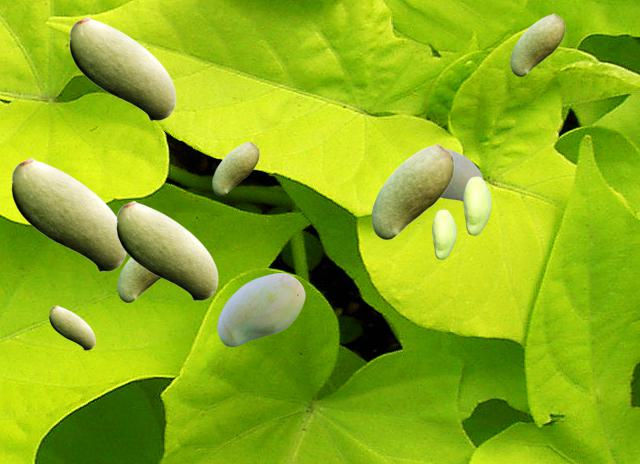green_mango: (11, 157, 126, 271), (69, 16, 175, 120), (116, 200, 217, 300), (371, 143, 453, 238), (217, 273, 304, 345), (510, 13, 564, 75), (212, 141, 258, 194), (441, 149, 482, 201), (49, 305, 94, 349), (117, 257, 160, 301), (463, 176, 490, 234), (432, 209, 455, 258)
